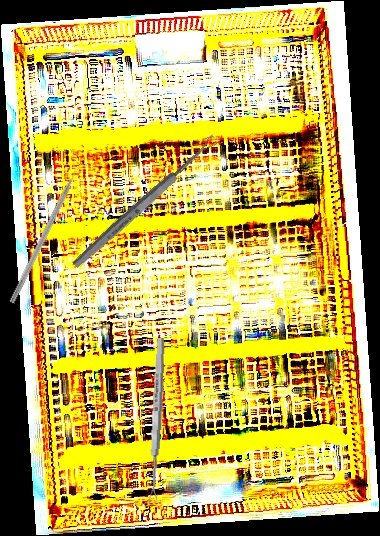Chopper: (8, 158, 92, 308)
Surgical Spoon: (70, 133, 221, 271), (146, 337, 167, 504)
